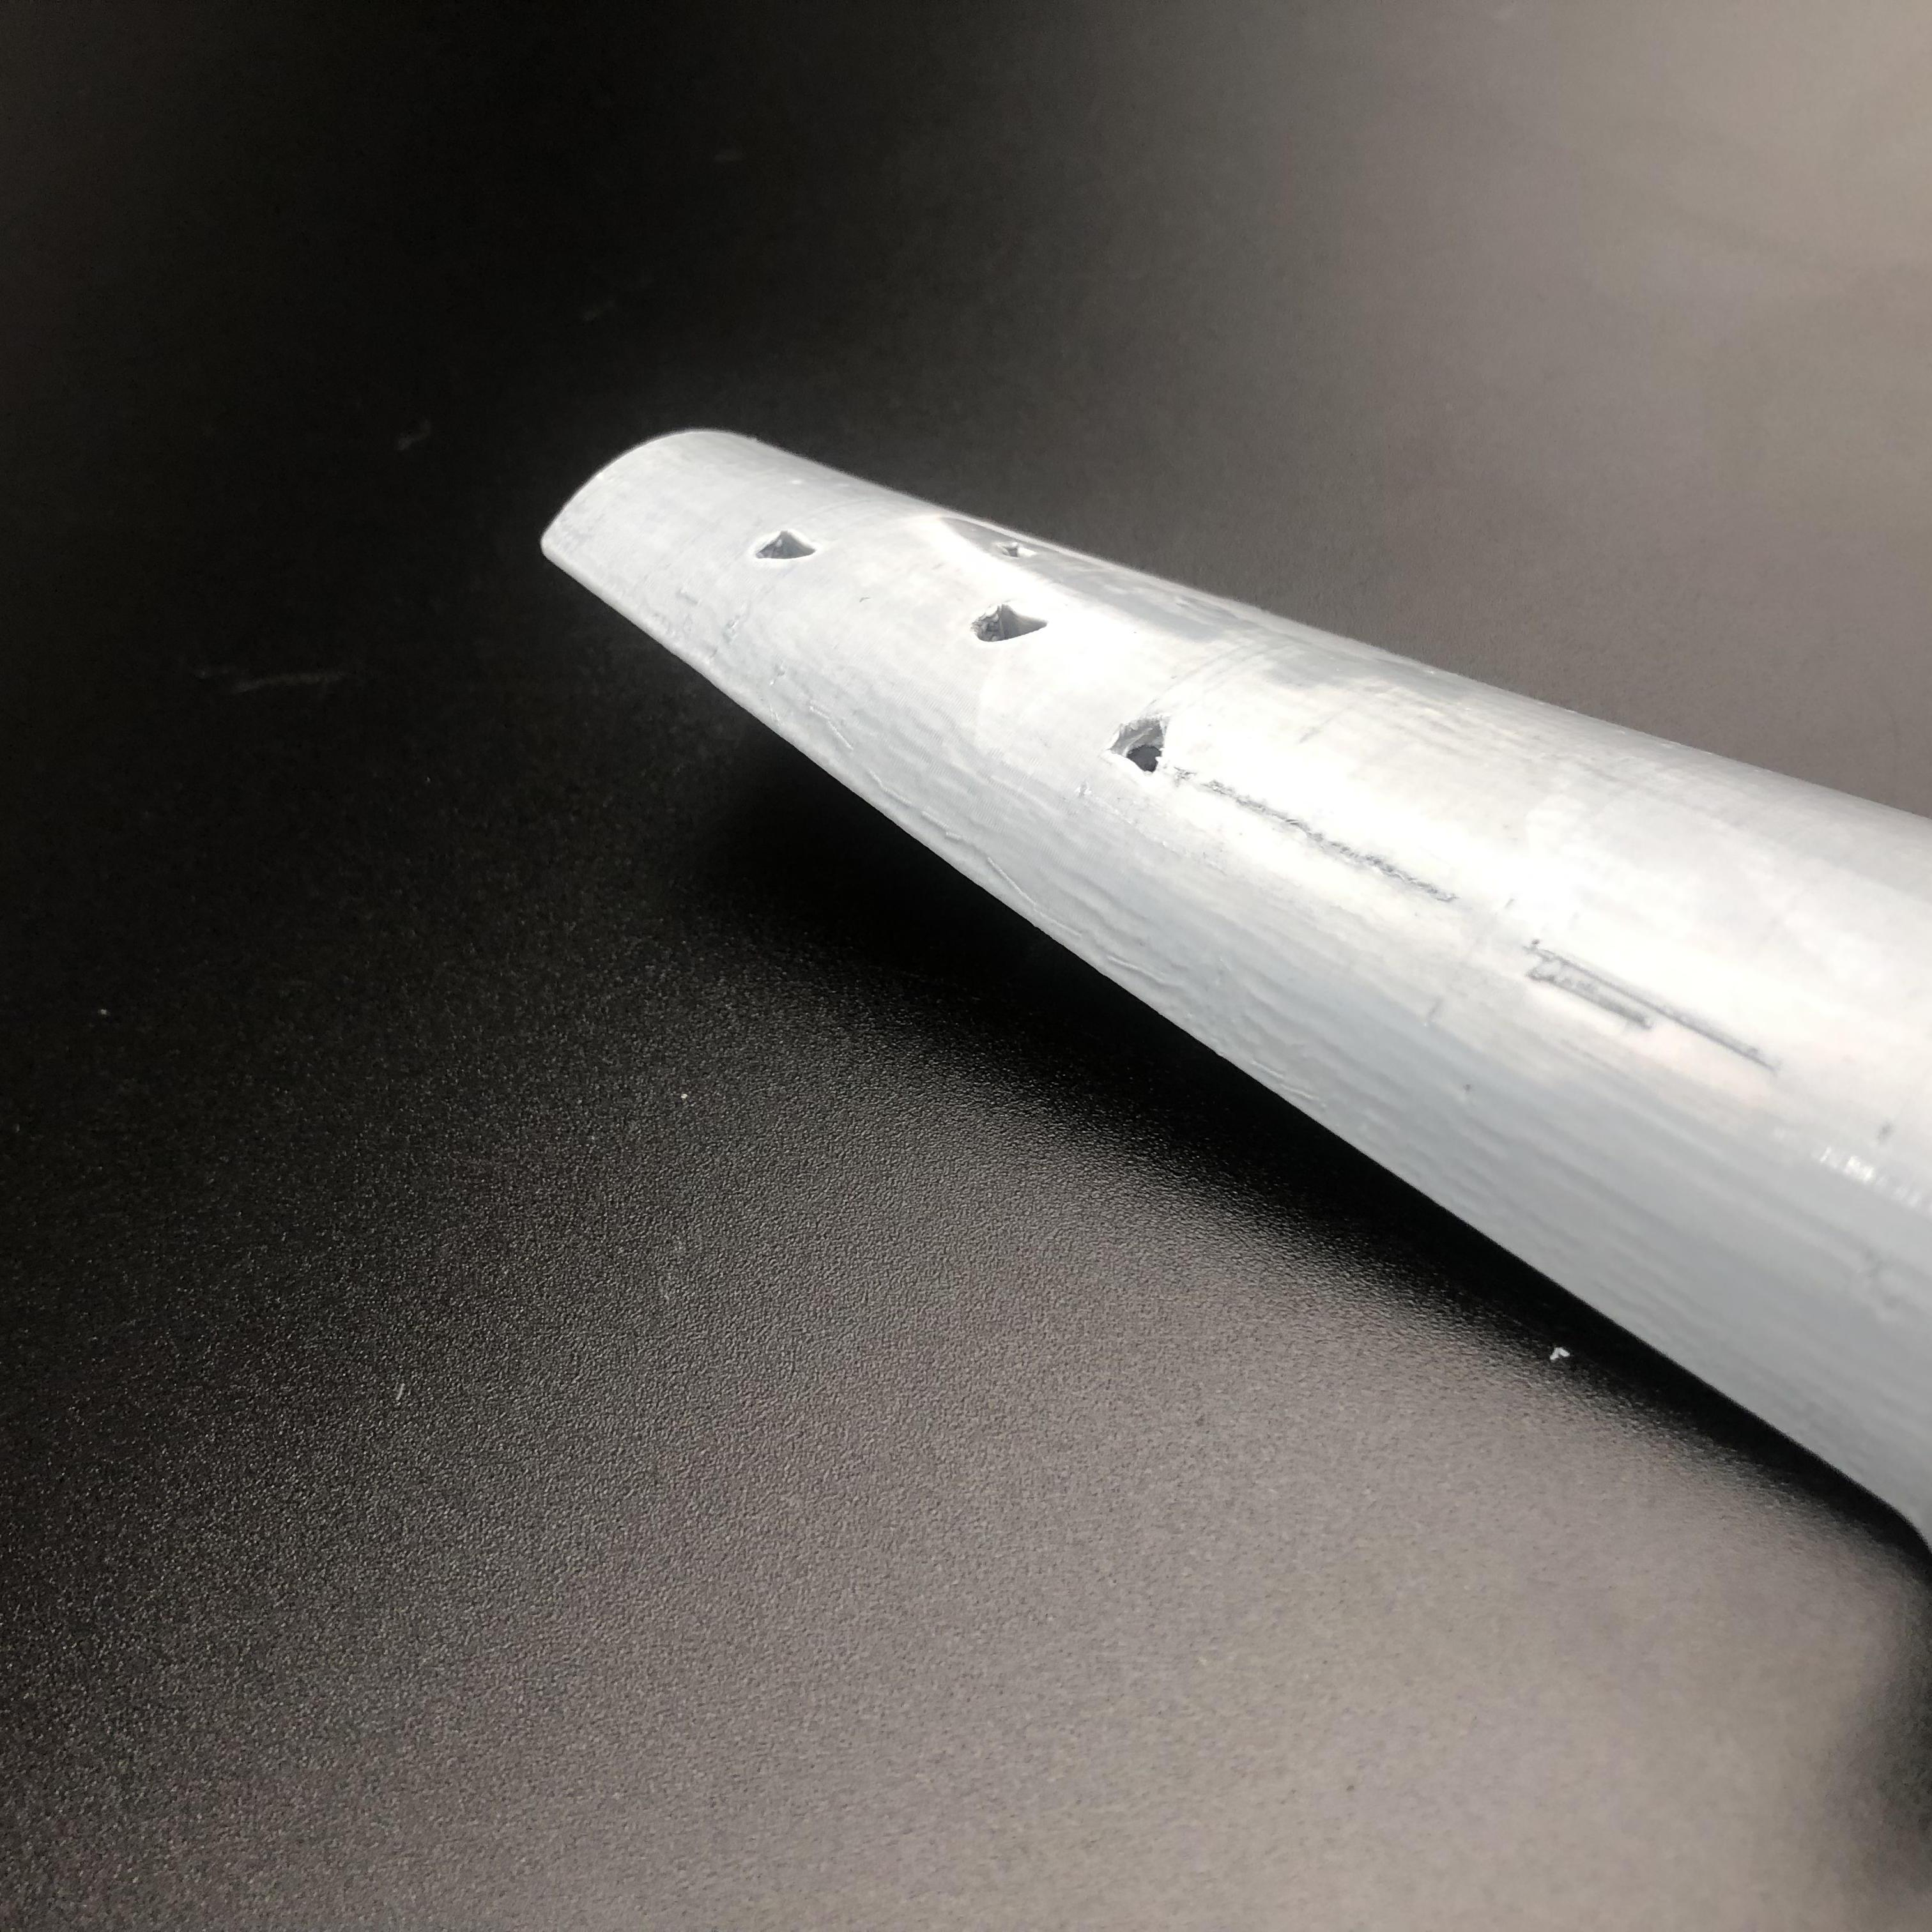breakdown: (757, 520, 1194, 784)
